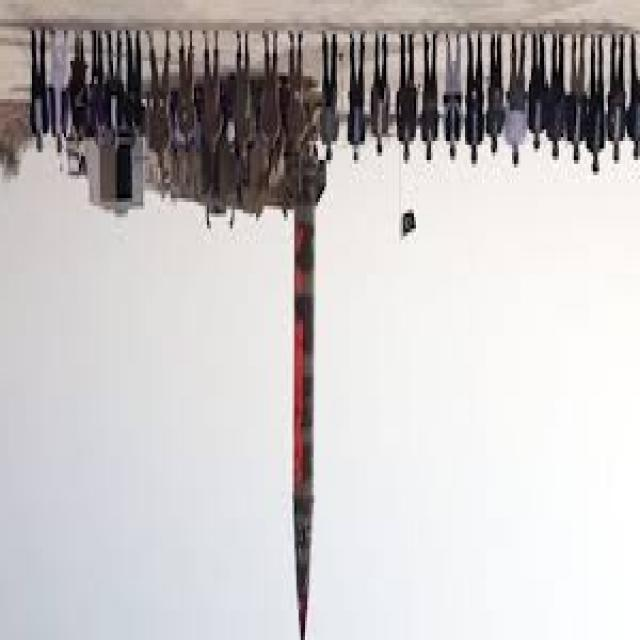missile: (280, 142, 324, 640)
